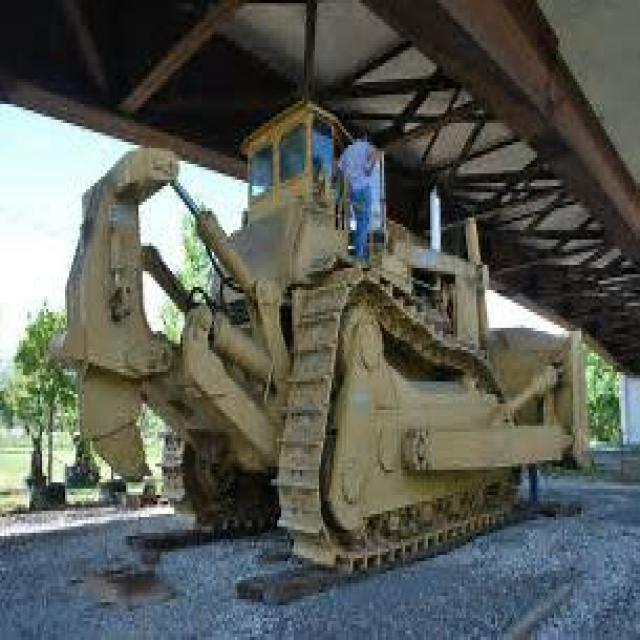Bulldozer: (56, 73, 606, 586)
